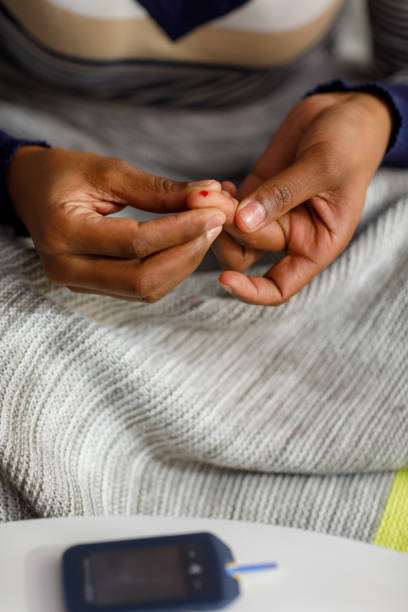blood: (193, 185, 214, 201)
